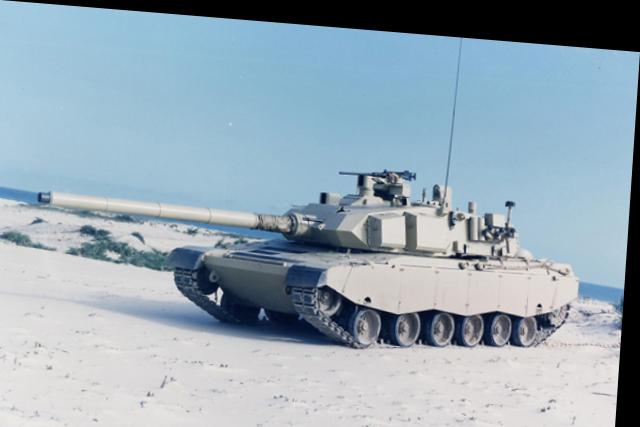tank: (172, 151, 584, 350)
